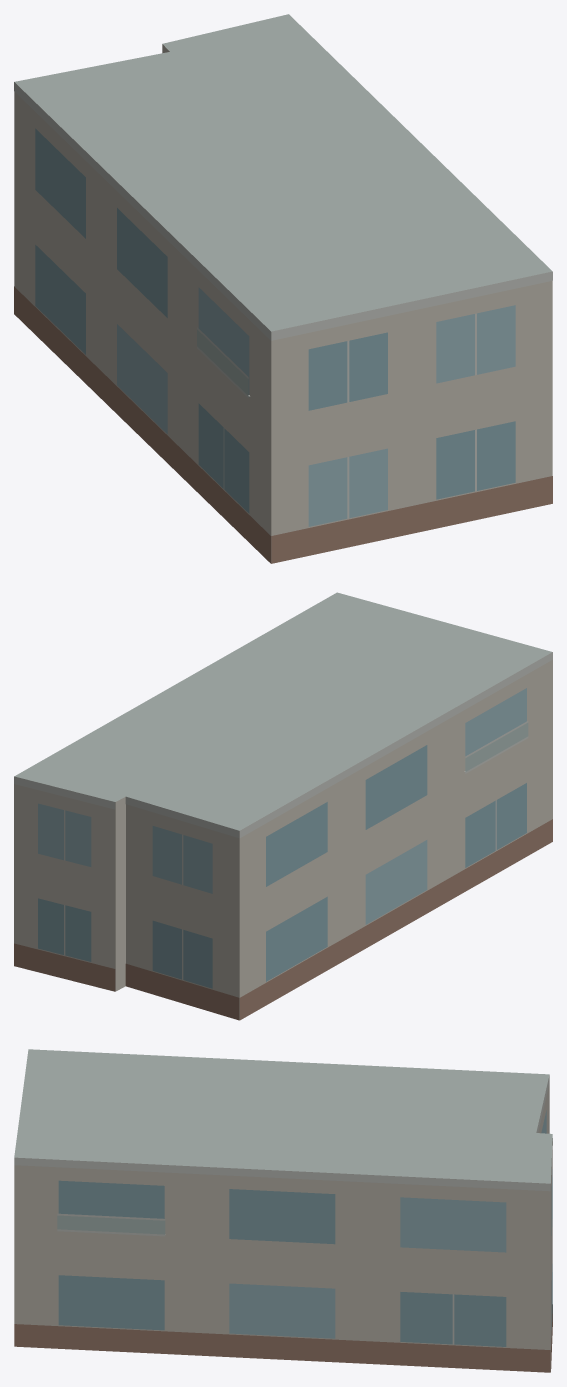
Rendered from survey-upis-32814913.glb.
3 renders of one model, top to bottom at view 1: azimuth 30°, elevation 25°; view 2: azimuth 150°, elevation 25°; view 3: azimuth 270°, elevation 25°, orthographic. The views are drawn at different scales.
Visible parts, largest first — view 1: survey-upis-32814913.tmp; view 2: survey-upis-32814913.tmp; view 3: survey-upis-32814913.tmp.
Boxes of the visible parts, left/top/right/bottom form: survey-upis-32814913.tmp: left=14, top=14, right=552, bottom=563; survey-upis-32814913.tmp: left=14, top=592, right=552, bottom=1020; survey-upis-32814913.tmp: left=14, top=1049, right=552, bottom=1372.
Bounding box in the file's own units: 9.32 × 6.1 × 15.77.
